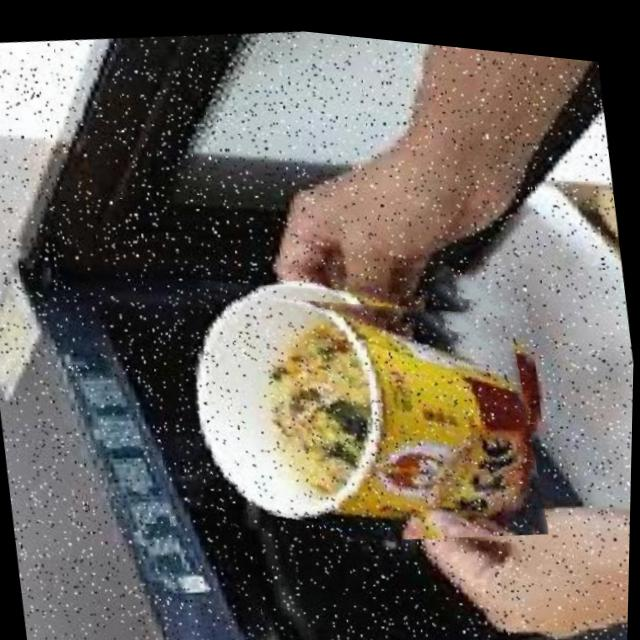Miscellaneous: (179, 236, 558, 568)
